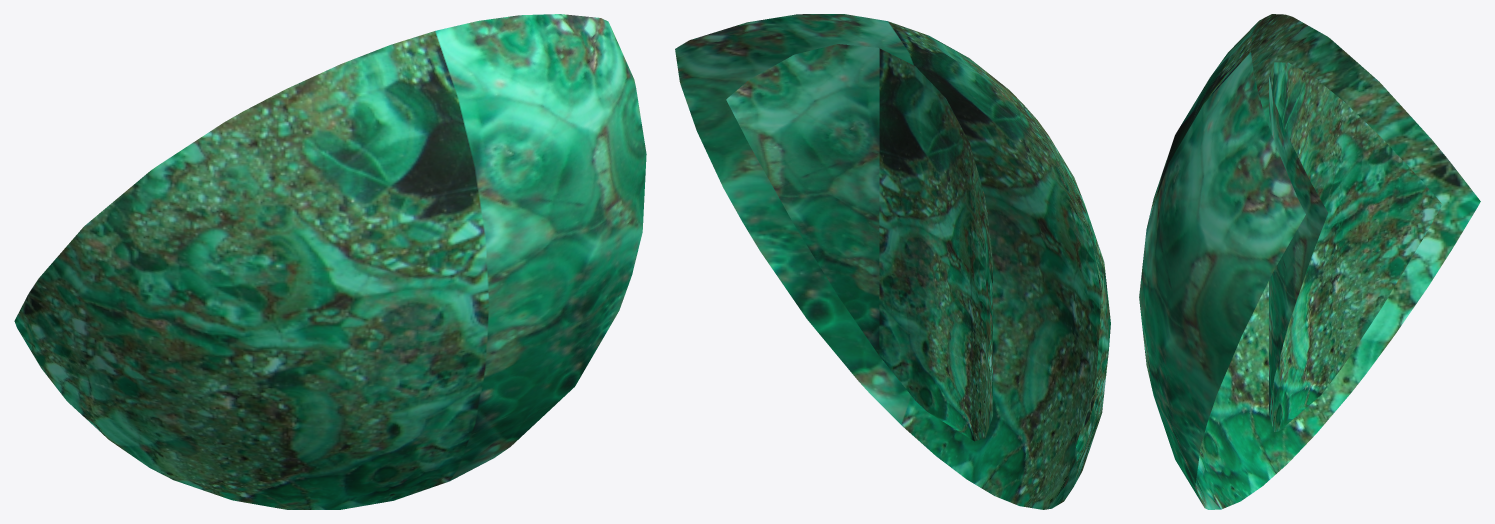
File: bowlpart3.obj
3 renders of one model, left to right at view 1: azimuth 30°, elevation 25°; view 2: azimuth 150°, elevation 25°; view 3: azimuth 270°, elevation 25°, orthographic. The views are drawn at different scales.
Parts seen in each view (by area): view 1: Sphere.001; view 2: Sphere.001; view 3: Sphere.001.
Part boxes in pixels (<box>): Sphere.001: <box>14,14,646,509</box>; Sphere.001: <box>675,14,1110,509</box>; Sphere.001: <box>1139,14,1480,509</box>.
Bounding box in the file's own units: 8.09 × 6.84 × 4.41.
Materials: 1 (1 with a texture image).
